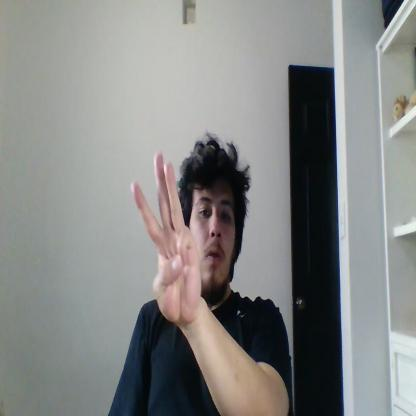W: (132, 148, 200, 323)
